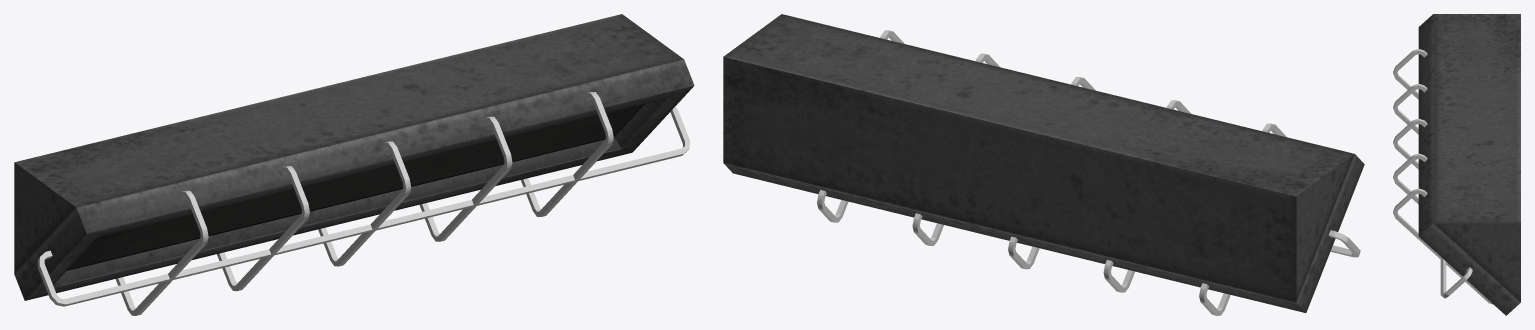
The model's file is lamp_3_1_off.obj.
3 views of the same model, side by side, from view 1: azimuth 30°, elevation 25°; view 2: azimuth 150°, elevation 25°; view 3: azimuth 270°, elevation 25° (orthographic). The views are drawn at different scales.
Visible parts, largest first — view 1: lamp_3_1_off, lamp_3_1_off_protector; view 2: lamp_3_1_off, lamp_3_1_off_protector; view 3: lamp_3_1_off, lamp_3_1_off_protector.
Boxes of the visible parts, x1,y1,x2,y2 form: lamp_3_1_off: (14,14,694,300); lamp_3_1_off_protector: (37,91,689,315); lamp_3_1_off: (723,14,1364,312); lamp_3_1_off_protector: (817,30,1360,315); lamp_3_1_off: (1418,14,1520,315); lamp_3_1_off_protector: (1393,48,1493,304).
Size of the model in its own units: 1.26 by 0.3092 by 0.3092.
